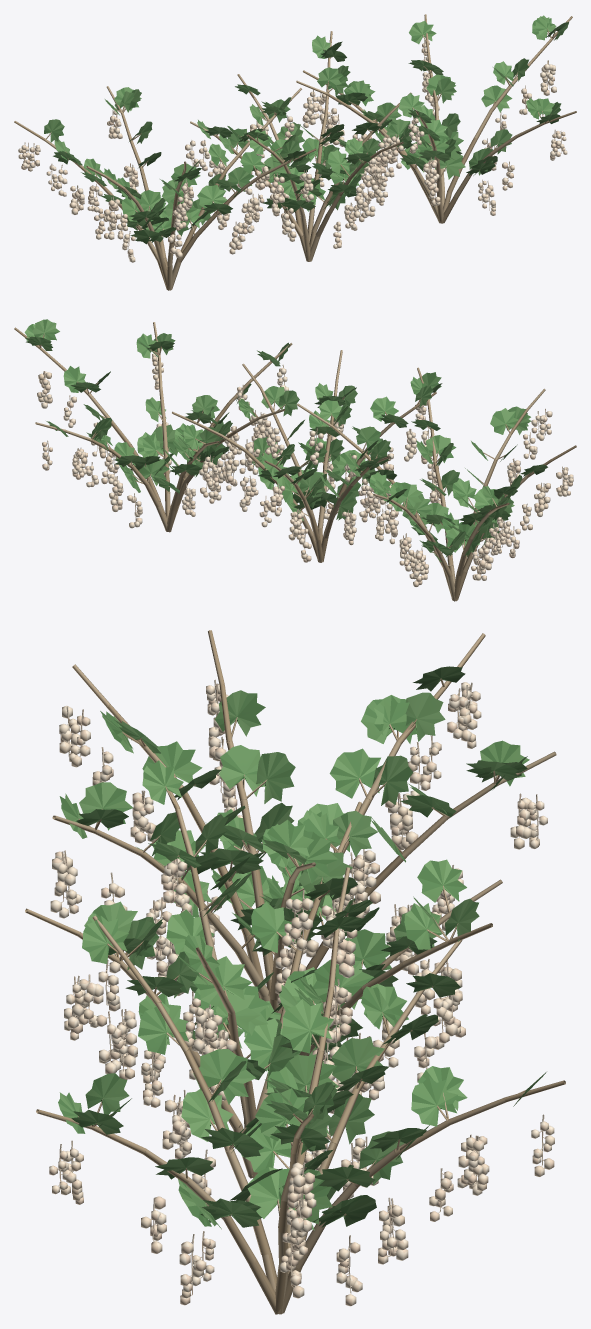
The model's file is groseillier_blanche_mur.glb.
3 renders of one model, top to bottom at view 1: azimuth 30°, elevation 25°; view 2: azimuth 150°, elevation 25°; view 3: azimuth 270°, elevation 25°, orthographic. The views are drawn at different scales.
Visible parts, largest first — view 1: Groseillier_Feuilles, Groseillier_Fruits, Groseillier_Tiges; view 2: Groseillier_Feuilles, Groseillier_Fruits, Groseillier_Tiges; view 3: Groseillier_Feuilles, Groseillier_Fruits, Groseillier_Tiges.
Part boxes in pixels (left/top/right/bottom): Groseillier_Feuilles: left=44, top=15, right=568, bottom=244; Groseillier_Fruits: left=18, top=40, right=567, bottom=262; Groseillier_Tiges: left=14, top=14, right=576, bottom=290; Groseillier_Feuilles: left=24, top=319, right=547, bottom=562; Groseillier_Fruits: left=37, top=353, right=573, bottom=587; Groseillier_Tiges: left=14, top=322, right=576, bottom=601; Groseillier_Feuilles: left=58, top=666, right=546, bottom=1230; Groseillier_Fruits: left=49, top=679, right=554, bottom=1306; Groseillier_Tiges: left=25, top=630, right=565, bottom=1314.
Bounding box in the file's own units: 2.6 × 0.8397 × 1.18.
